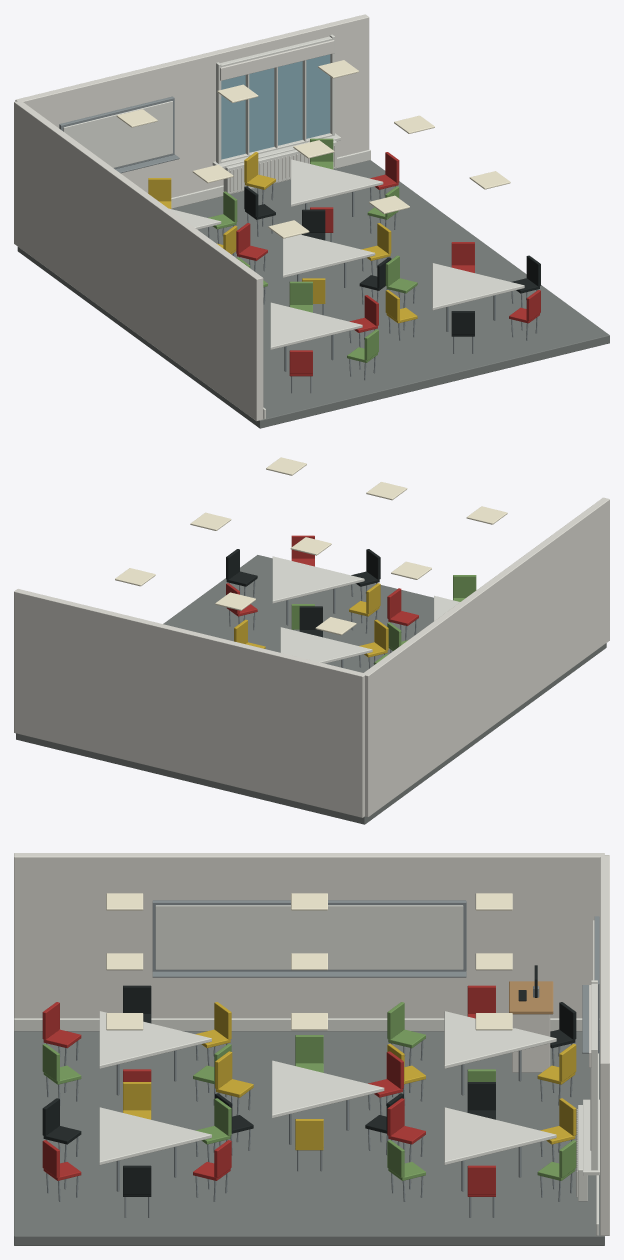
Rendered from ksw-interior-8dd737bbd5ce.glb.
The picture shows the model from 3 angles, top to bottom: view 1: azimuth 30°, elevation 25°; view 2: azimuth 150°, elevation 25°; view 3: azimuth 270°, elevation 25°; orthographic projection. The views are drawn at different scales.
Visible parts, largest first — view 1: KSW.001; view 2: KSW.001; view 3: KSW.001.
Boxes of the visible parts, bbox=[...] form: KSW.001: bbox=[14, 14, 609, 428]; KSW.001: bbox=[14, 457, 609, 824]; KSW.001: bbox=[14, 853, 609, 1245].
Bounding box in the file's own units: 8.08 × 3.28 × 9.68.
